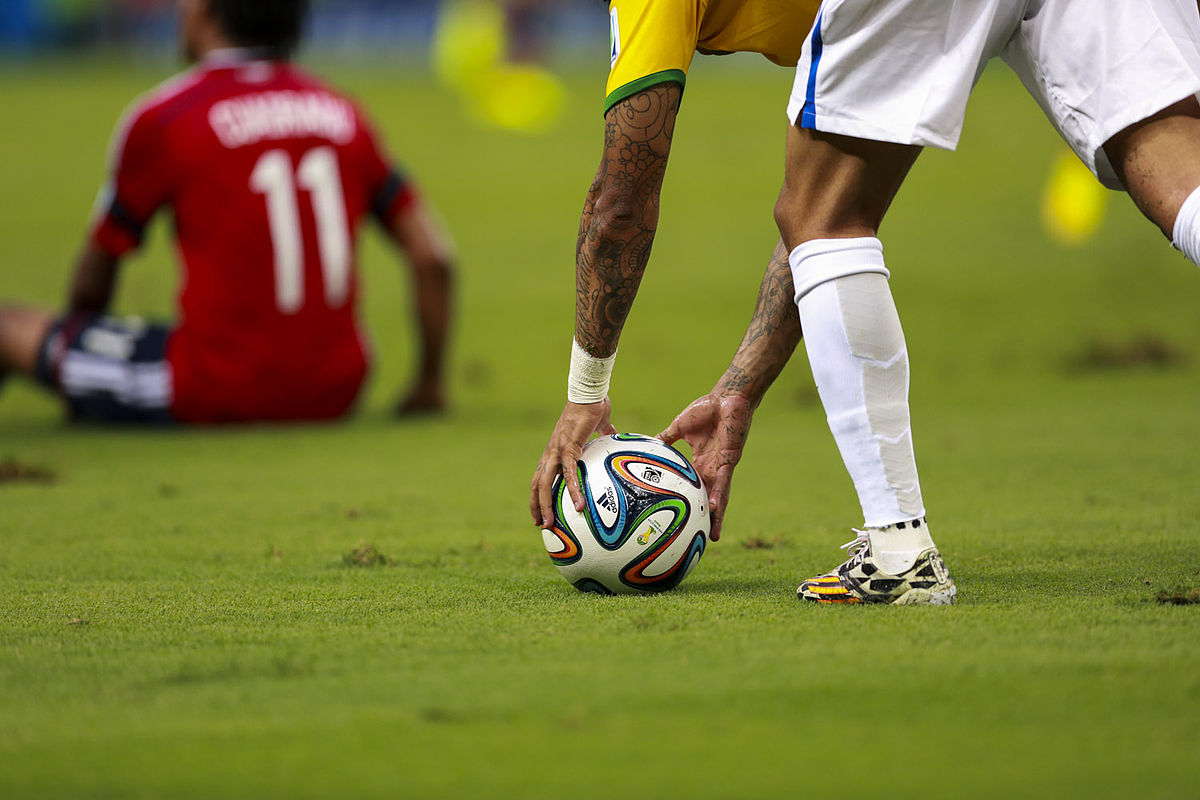football: (538, 427, 714, 594)
